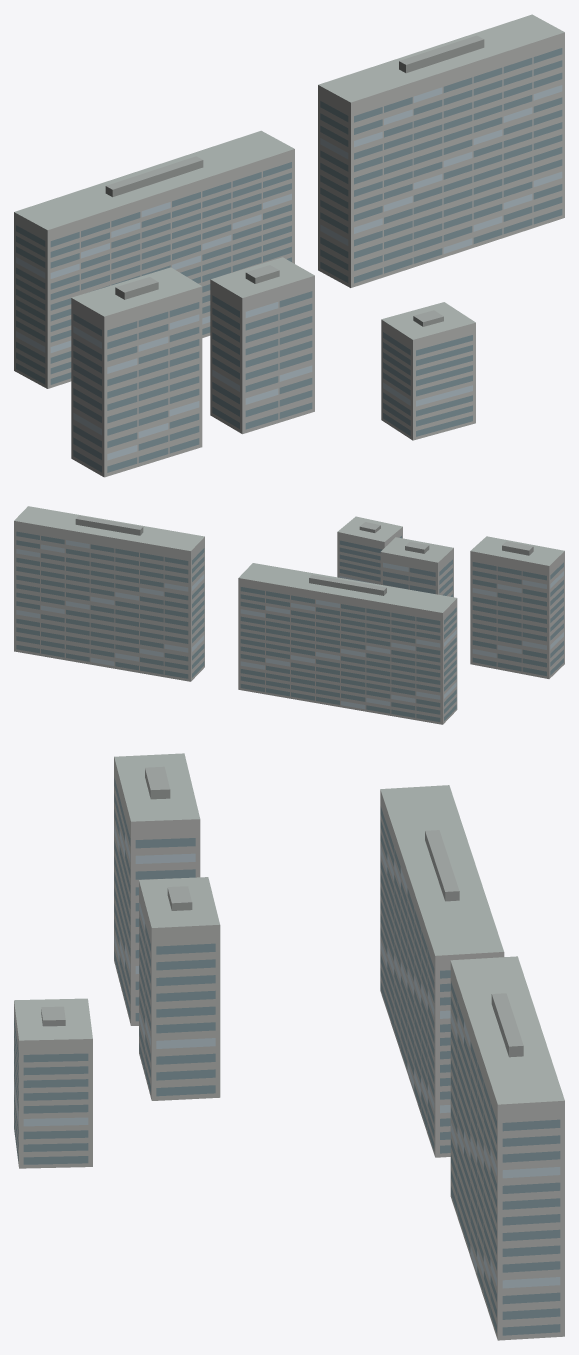
File: apt-a13202102.glb
3 views of the same model, one above another, from view 1: azimuth 30°, elevation 25°; view 2: azimuth 150°, elevation 25°; view 3: azimuth 270°, elevation 25° (orthographic). The views are drawn at different scales.
Parts seen in each view (by area): view 1: apt-a13202102; view 2: apt-a13202102; view 3: apt-a13202102.
Boxes of the visible parts, x1,y1,x2,y2 form: apt-a13202102: (14, 14, 564, 477); apt-a13202102: (14, 506, 564, 724); apt-a13202102: (14, 753, 564, 1340).
Size of the model in its own units: 159 by 47.81 by 96.84.
